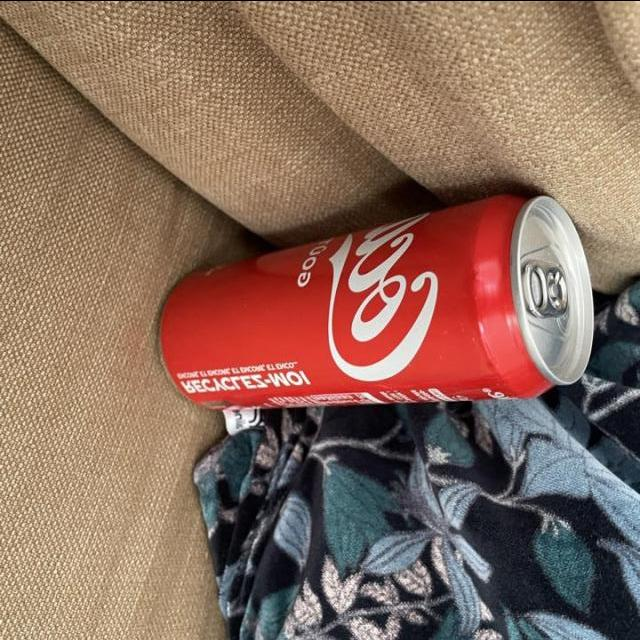can: (154, 179, 608, 442)
